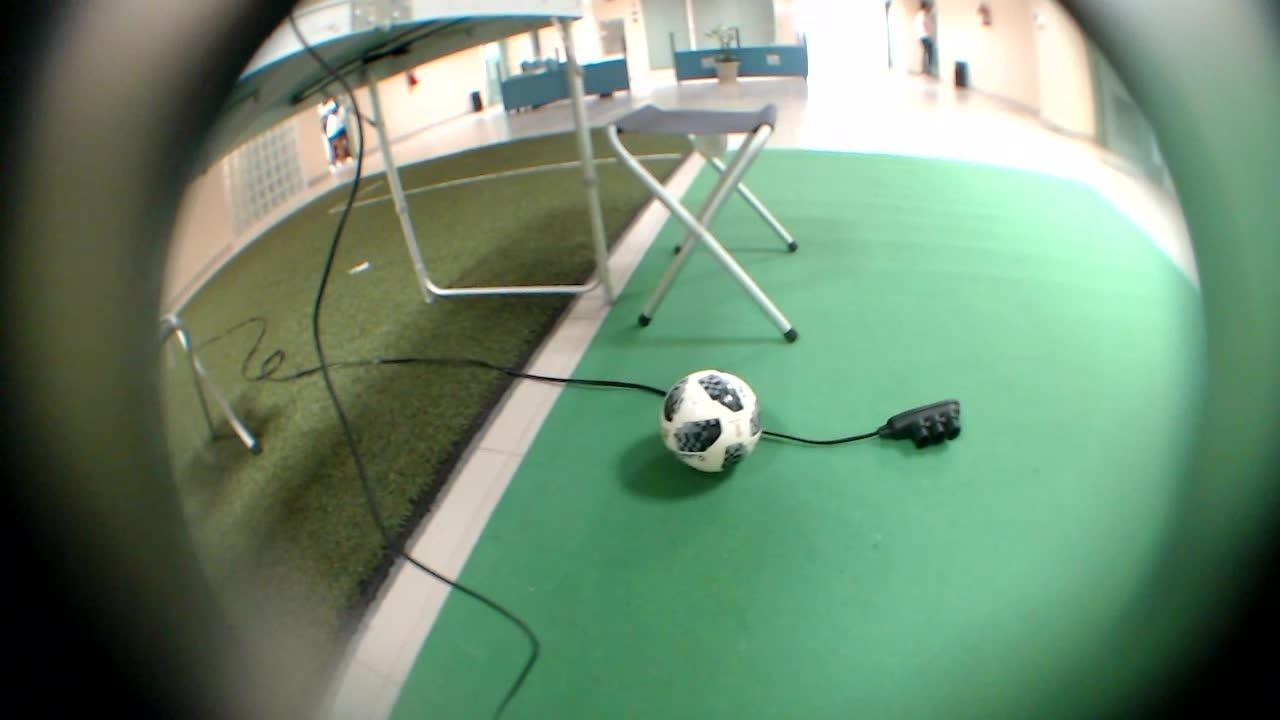ball: (653, 339, 780, 489)
